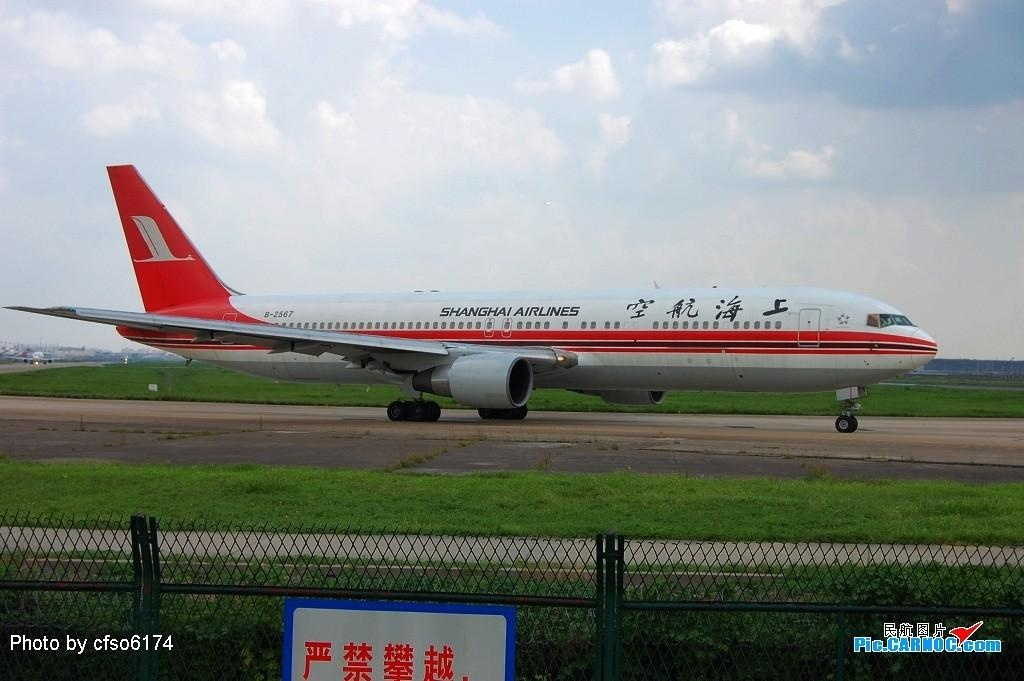airplane: (8, 157, 946, 441)
